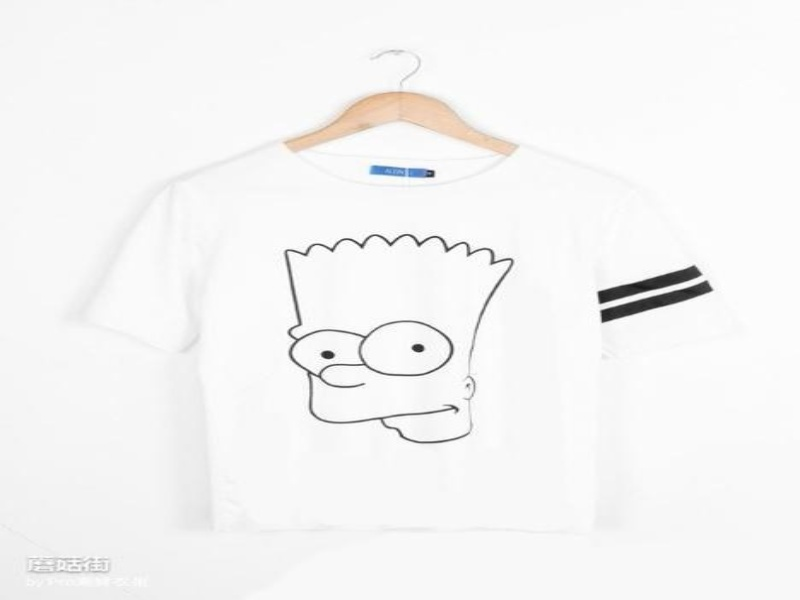short_sleeved_shirt: (80, 131, 733, 537)
